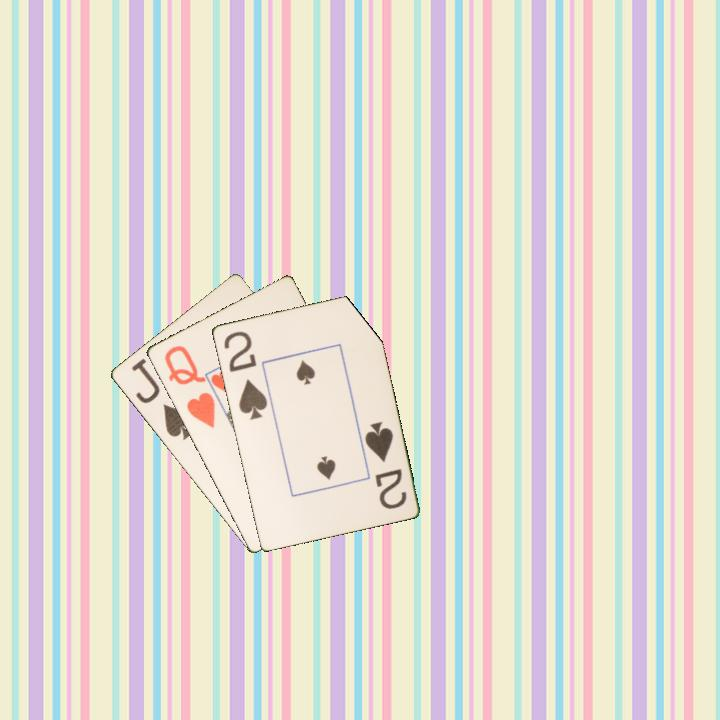2s: (220, 327, 270, 422), (361, 418, 409, 512)
Js: (127, 354, 196, 443)
Qh: (160, 342, 218, 431)
